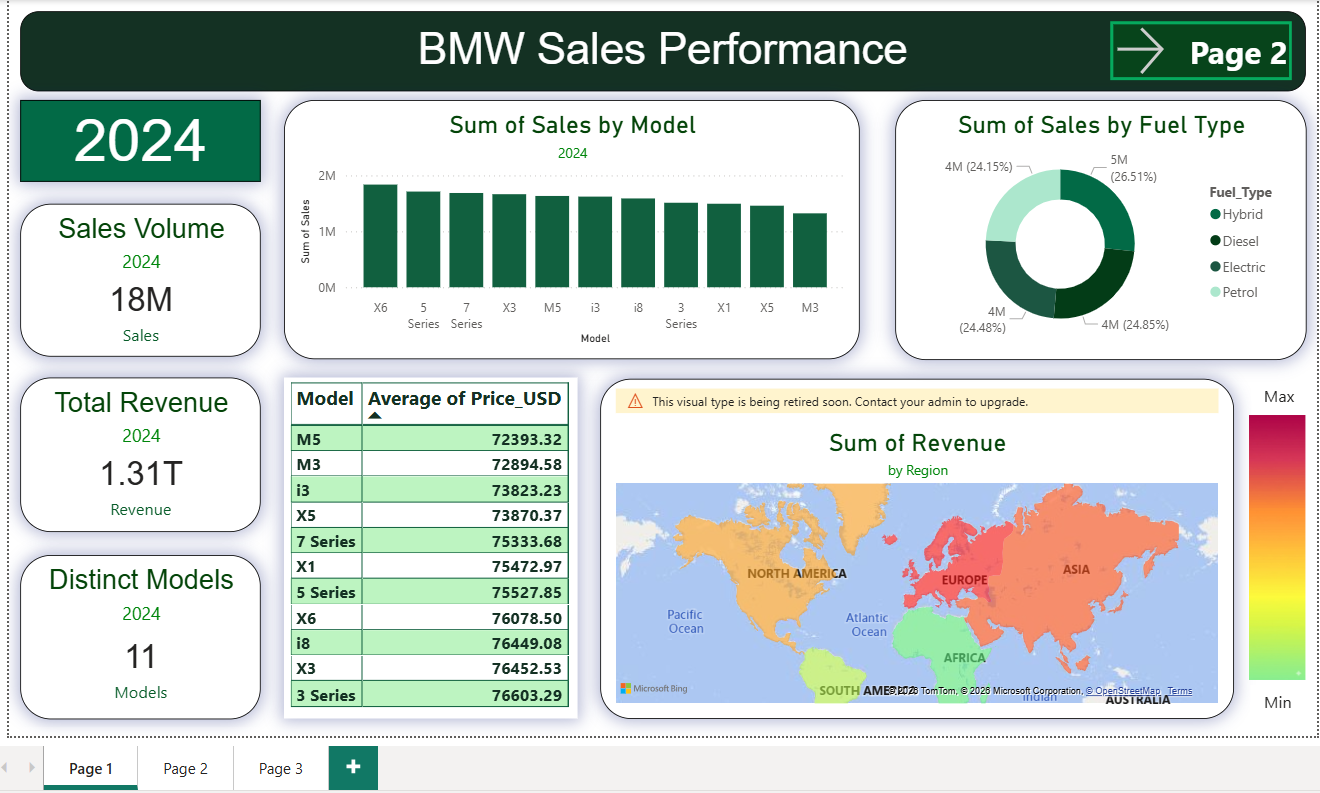

The page's visual inventory and layout, read from the dashboard file:
{"tool":"powerbi","page":{"name":"Page 1","canvas":[1280,720],"ordinal":0},"visuals":[{"type":"textbox","box":[11,11,1257.7,78.5],"z":0},{"type":"card","title":"Sales Volume","fields":{"Values":["Sum(BMW sales data (2010-2024).Sales_Volume)"]},"box":[11,198.8,235.6,149.7],"z":1000},{"type":"card","title":"Total Revenue","fields":{"Values":["Sum(BMW sales data (2010-2024).Revenue)"]},"box":[11,369.3,235.6,150.9],"z":2000},{"type":"card","title":"Distinct Models","fields":{"Values":["Count(BMW sales data (2010-2024).Model)"]},"box":[11,542.3,235.6,160.7],"z":3000},{"type":"filledMap","fields":{"Category":["BMW sales data (2010-2024).Region"]},"box":[577.9,370.6,619.6,332.5],"z":4000},{"type":"clusteredColumnChart","fields":{"Category":["BMW sales data (2010-2024).Model"],"Y":["Sum(BMW sales data (2010-2024).Sales_Volume)"]},"box":[268.7,98.2,563.2,254],"z":5000},{"type":"tableEx","fields":{"Values":["BMW sales data (2010-2024).Model","Avg(BMW sales data (2010-2024).Price_USD)"]},"box":[268.7,369.3,287.1,333.7],"z":6000},{"type":"textbox","box":[11,98.2,235.6,79.8],"z":8000},{"type":"actionButton","box":[1077.3,20.9,177.9,57.7],"z":9000},{"type":"textbox","box":[1216,370.6,54,38],"z":10000},{"type":"textbox","box":[1214.7,669.9,54,33.1],"z":11000},{"type":"image","box":[1213.6,385.8,54.9,300.2],"z":12000},{"type":"donutChart","title":"Sum of Sales by Fuel Type","fields":{"Y":["Sum(BMW sales data (2010-2024).Sales_Volume)"],"Category":["BMW sales data (2010-2024).Fuel_Type"]},"box":[867,97.8,402.3,254.3],"z":13000}]}

Visuals, with their boxes in screenshot pixels (x1, y1, x2, y2):
textbox: rect(21, 8, 1301, 88)
"Sales Volume" card: rect(21, 199, 261, 351)
"Total Revenue" card: rect(21, 372, 261, 526)
"Distinct Models" card: rect(21, 548, 261, 712)
filledMap - BMW sales data (2010-2024).Region: rect(598, 373, 1228, 712)
clusteredColumnChart - BMW sales data (2010-2024).Model x Sum(BMW sales data (2010-2024).Sales_Volume): rect(284, 96, 856, 355)
tableEx - BMW sales data (2010-2024).Model x Avg(BMW sales data (2010-2024).Price_USD): rect(284, 372, 576, 712)
textbox: rect(21, 96, 261, 178)
actionButton: rect(1106, 18, 1287, 76)
textbox: rect(1247, 373, 1302, 412)
textbox: rect(1246, 678, 1301, 712)
image: rect(1245, 389, 1300, 694)
"Sum of Sales by Fuel Type" donutChart: rect(892, 96, 1301, 355)
